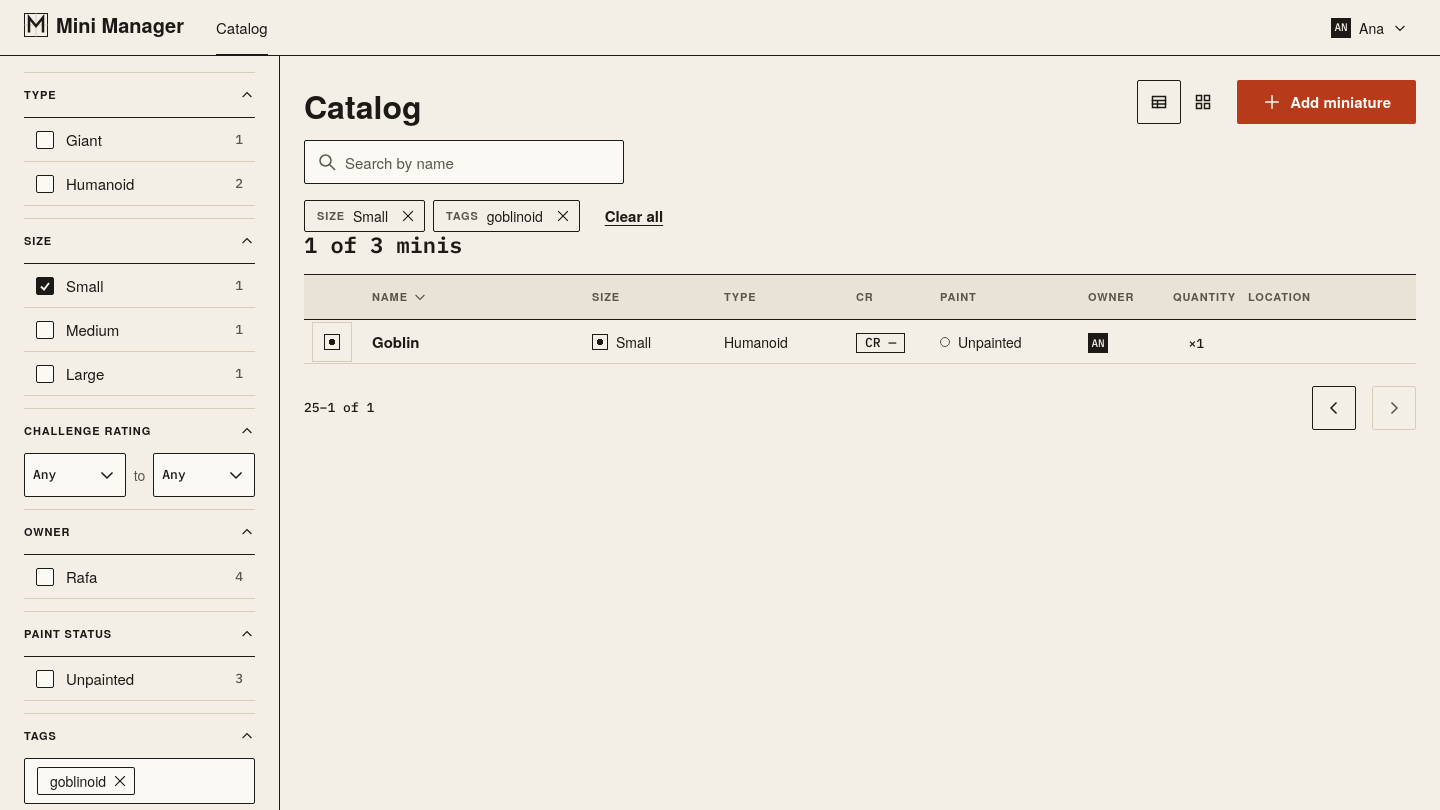
Test: ActiveFilters › clears every filter but keeps the sort
Click the button "Clear all" at (634, 216), box x1=588 y1=200 x2=680 y2=232
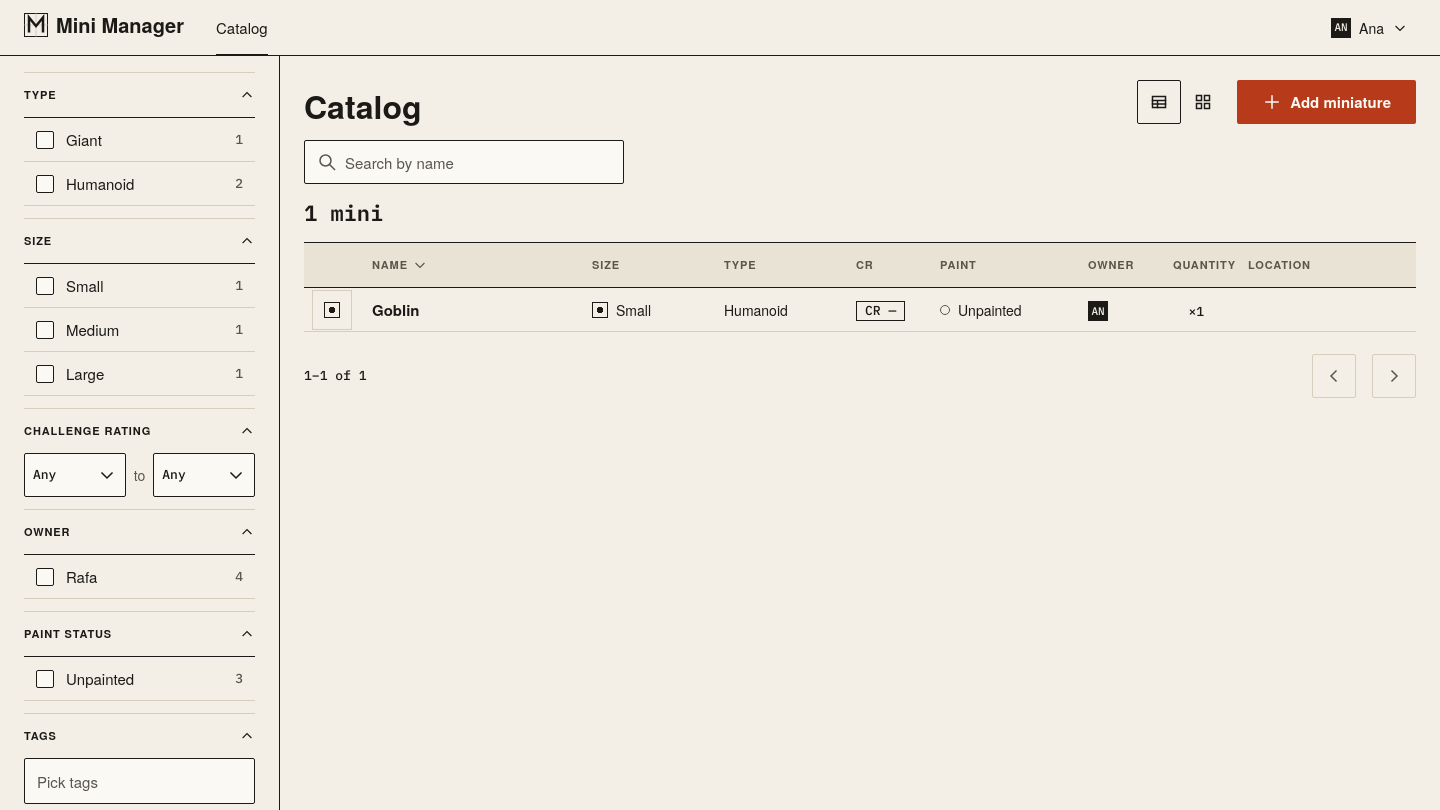
Check: the text "1 mini" is shown, box x1=304 y1=198 x2=383 y2=227
